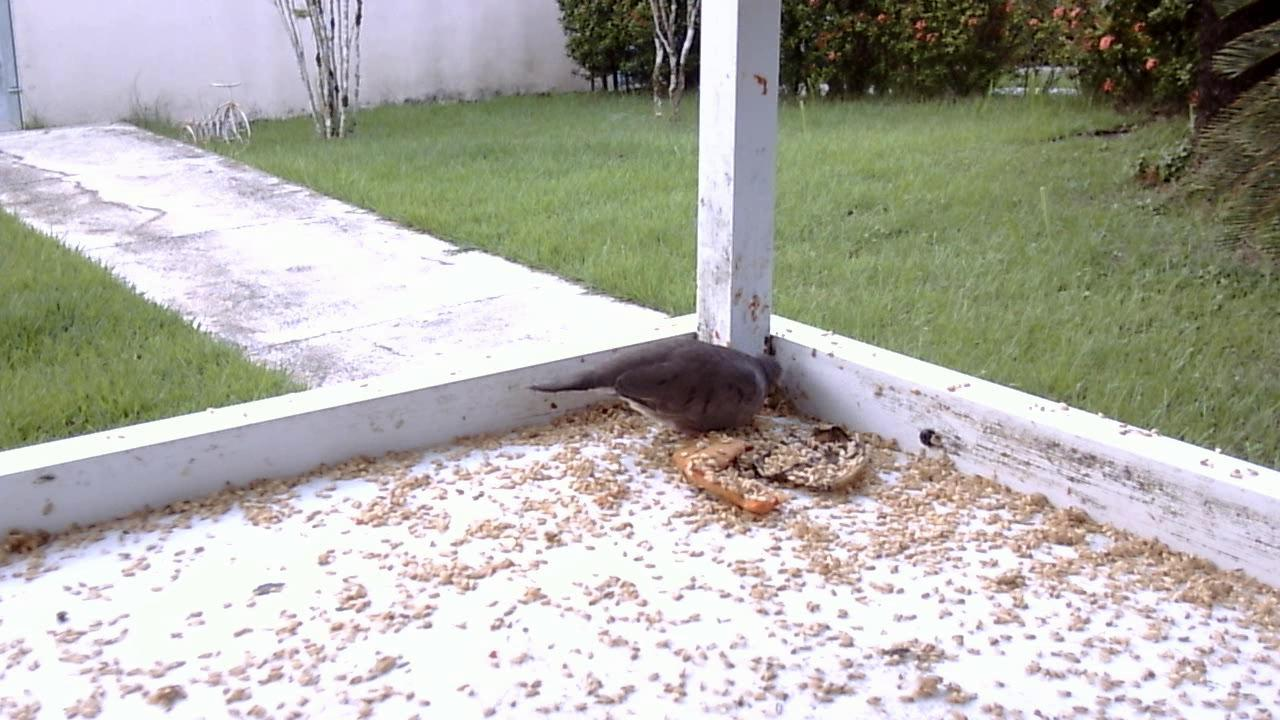rolinha: (521, 329, 788, 444)
